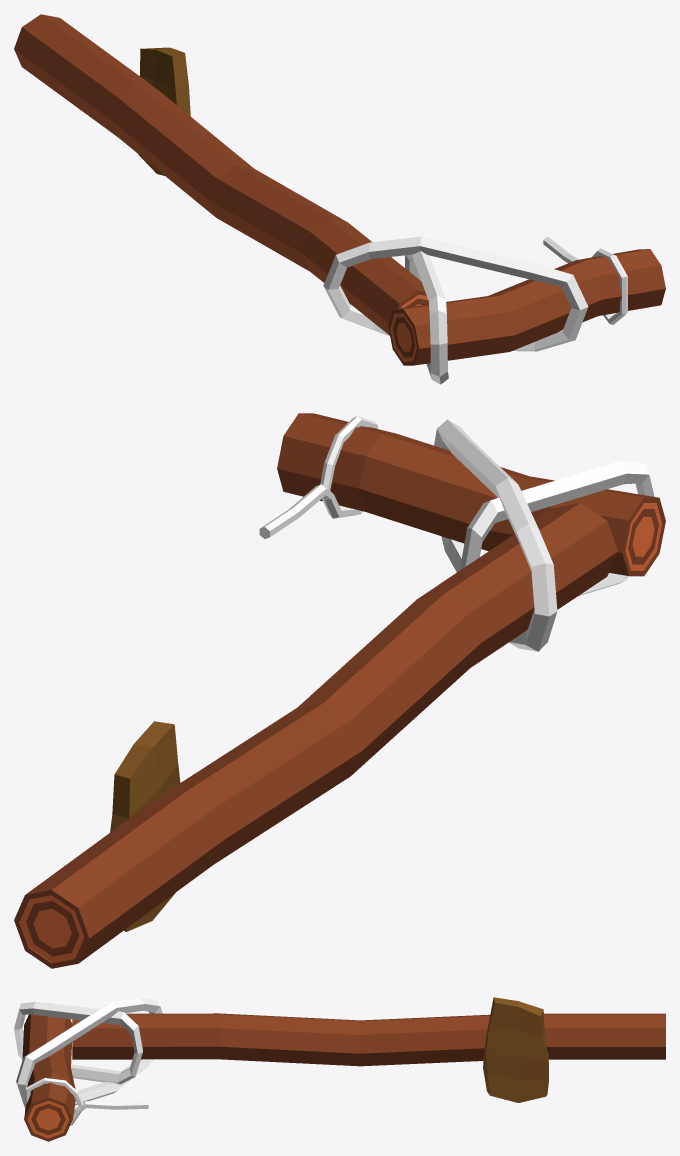
The model's file is Lantern.fbx.
3 views of the same model, one above another, from view 1: azimuth 30°, elevation 25°; view 2: azimuth 150°, elevation 25°; view 3: azimuth 270°, elevation 25° (orthographic). The views are drawn at different scales.
Visible parts, largest first — view 1: Cylinder.009, Cube.013; view 2: Cylinder.009, Cube.013; view 3: Cylinder.009, Cube.013.
Boxes of the visible parts, x1=… form: Cylinder.009: x1=14, y1=14, x2=665, y2=384; Cube.013: x1=138, y1=47, x2=190, y2=175; Cylinder.009: x1=14, y1=413, x2=665, y2=968; Cube.013: x1=110, y1=721, x2=180, y2=931; Cylinder.009: x1=14, y1=998, x2=665, y2=1141; Cube.013: x1=483, y1=997, x2=548, y2=1102.
Bounding box in the file's own units: 365 × 177 × 1035.
